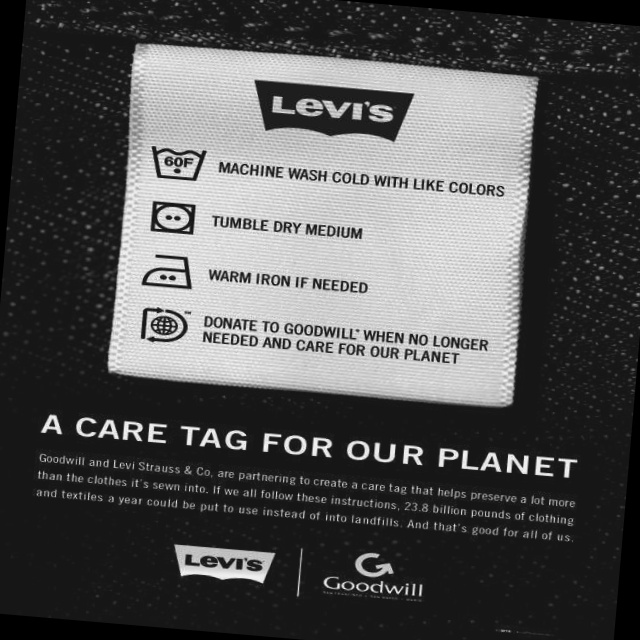30C: (147, 137, 211, 187)
iron_medium: (139, 248, 199, 295)
tumble_dry_medium: (145, 198, 202, 240)
